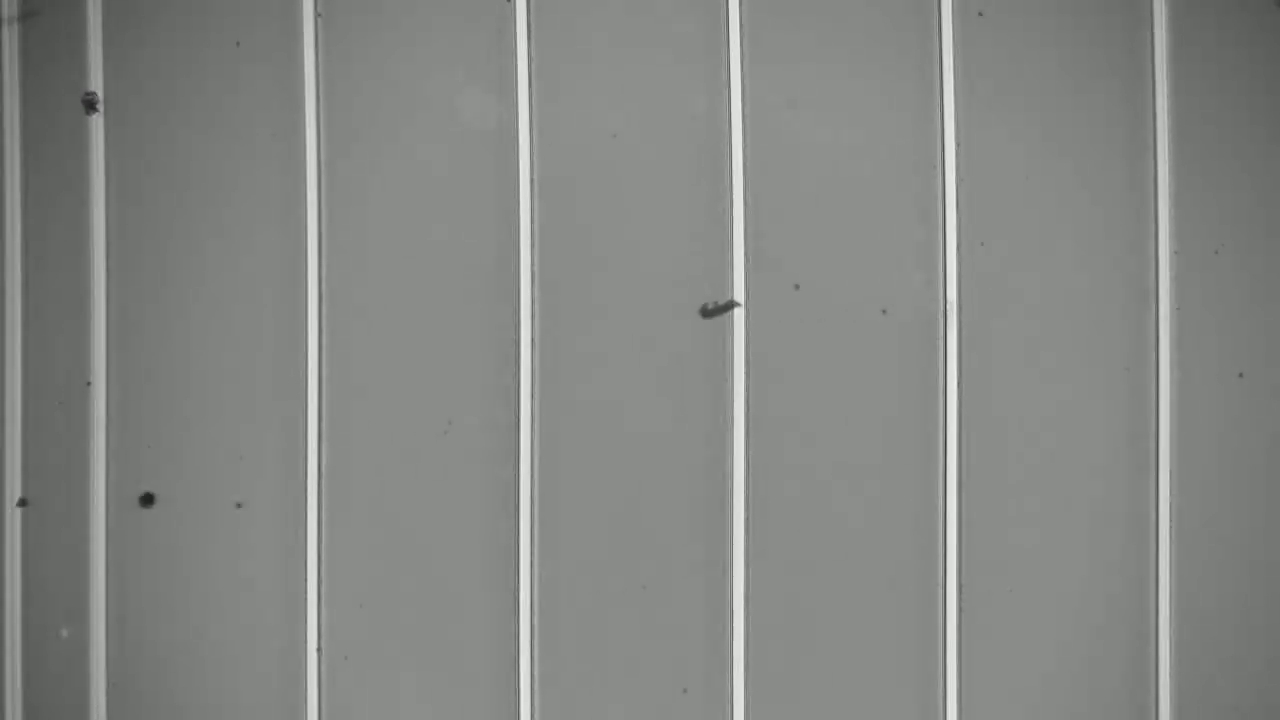stains_enbedded: (73, 85, 115, 125)
